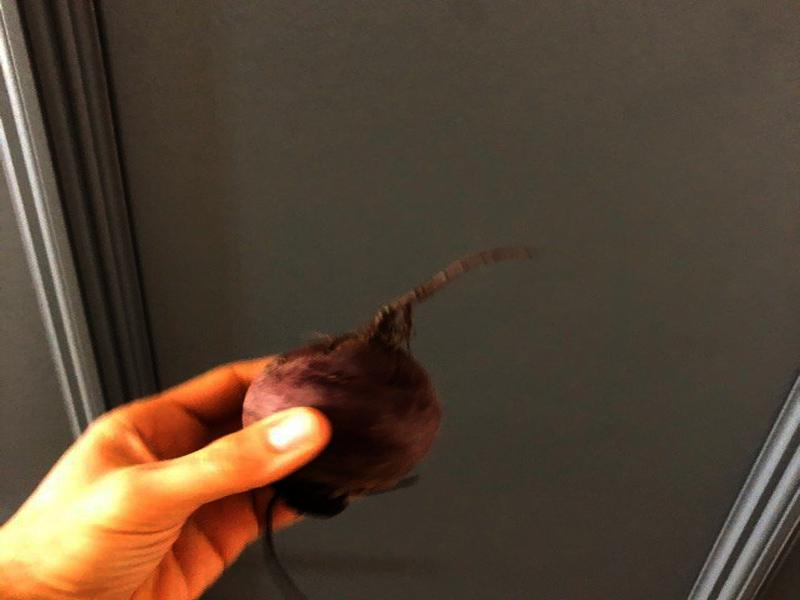Beet: (242, 247, 541, 600)
